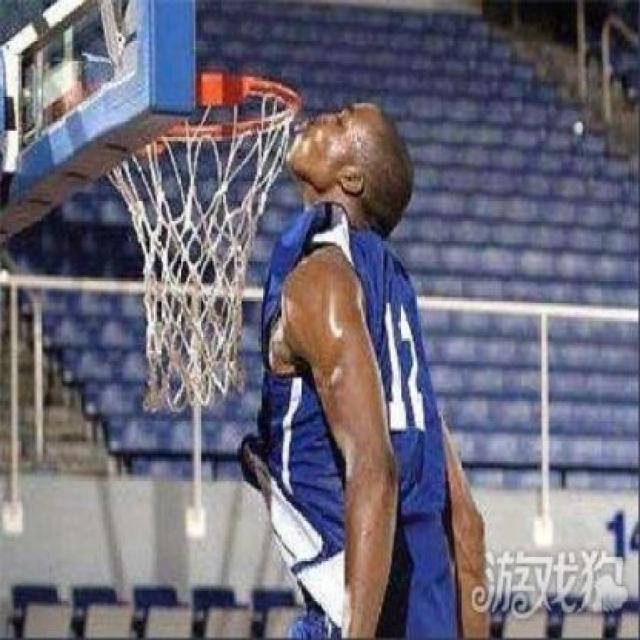rim: (108, 74, 300, 410)
